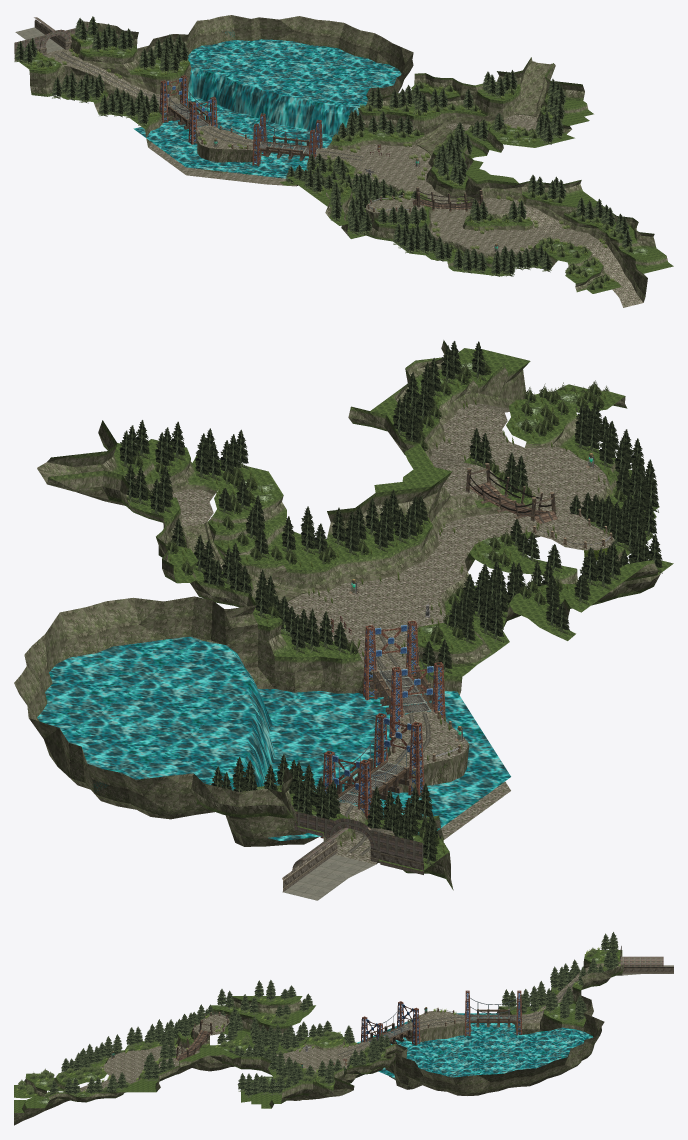
Rendered from North4.obj.
3 views of the same model, one above another, from view 1: azimuth 30°, elevation 25°; view 2: azimuth 150°, elevation 25°; view 3: azimuth 270°, elevation 25° (orthographic). The views are drawn at different scales.
Parts seen in each view (by area): view 1: Object.306, Object.304, Object.301, Object.121, Object.102, Object.104, Object.171, Object.178, Object.166, Object.307, Object.162, Object.167 (+59 smaller); view 2: Object.301, Object.306, Object.99, Object.4, Object.304, Object.305, Object.104, Object.307, Object.3, Object.92, Object.2, Object.170 (+69 smaller); view 3: Object.304, Object.162, Object.306, Object.99, Object.307, Object.301, Object.102, Object.178, Object.3, Object.168, Object.166, Object.171 (+45 smaller).
Part boxes in pixels (x1,y1,x2,y2): Object.306: (219,70,349,143); Object.304: (188,41,287,111); Object.301: (293,56,401,102); Object.121: (377,73,489,142); Object.102: (294,19,392,64); Object.104: (186,15,278,54); Object.171: (52,72,141,118); Object.178: (108,28,188,117); Object.166: (453,245,552,276); Object.307: (151,112,272,167); Object.162: (304,166,379,235); Object.167: (361,204,444,261); Object.301: (45,643,225,728); Object.306: (146,665,350,785); Object.99: (45,596,257,671); Object.4: (321,555,467,627); Object.304: (85,737,264,790); Object.305: (219,658,388,737); Object.104: (59,729,196,812); Object.307: (302,738,510,822); Object.3: (476,445,607,513); Object.92: (227,605,413,695); Object.2: (425,472,581,567); Object.170: (171,478,352,625); Object.304: (501,1027,583,1064); Object.162: (203,980,284,1041); Object.306: (426,1036,518,1066); Object.99: (396,1043,479,1093); Object.307: (426,1013,514,1052); Object.301: (428,1053,518,1077); Object.102: (478,1061,562,1092); Object.178: (519,964,591,1022); Object.3: (100,1045,168,1076); Object.168: (217,1024,282,1058); Object.166: (61,1034,122,1071); Object.171: (523,959,580,1009).
Size of the model in its own units: 152 by 34 by 256.
28 materials, 28 textured.
